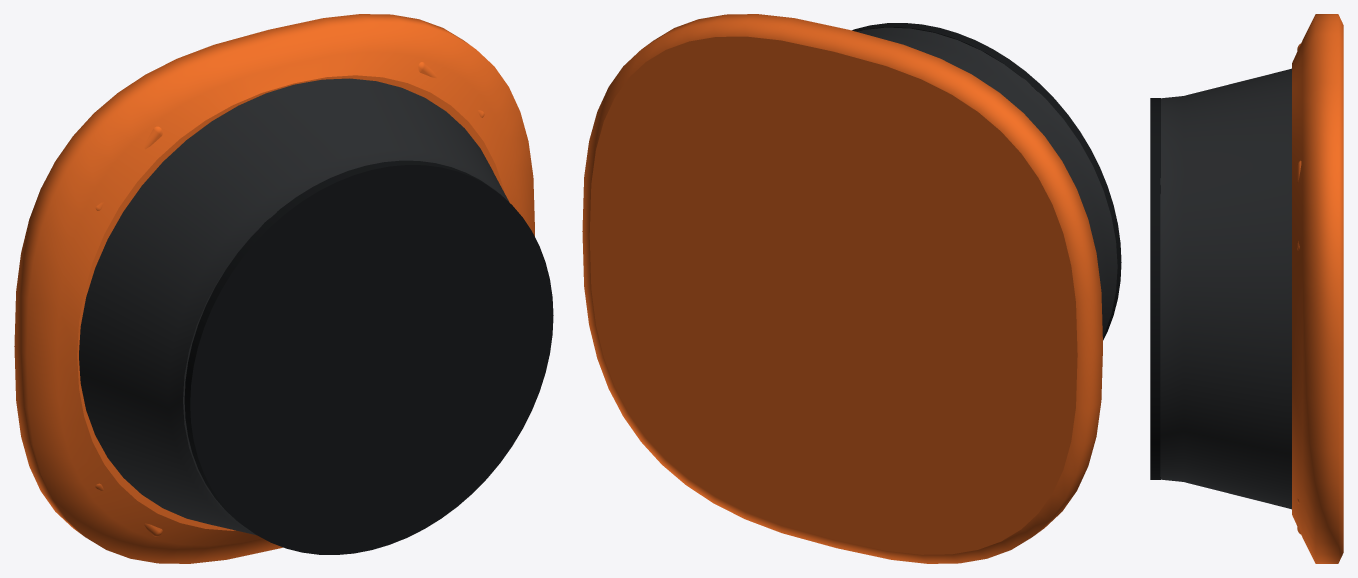
3 renders of one model, left to right at view 1: azimuth 30°, elevation 25°; view 2: azimuth 150°, elevation 25°; view 3: azimuth 270°, elevation 25°, orthographic. The views are drawn at different scales.
Visible parts, largest first — view 1: a1_seal, flared_mounting_rim, a1_tapered_skirt; view 2: flared_mounting_rim, a1_tapered_skirt, a1_seal; view 3: a1_tapered_skirt, flared_mounting_rim, a1_seal.
Boxes of the visible parts, x1,y1,x2,y2 form: a1_seal: (184, 160, 553, 554); flared_mounting_rim: (14, 14, 534, 563); a1_tapered_skirt: (79, 78, 509, 535); flared_mounting_rim: (582, 14, 1102, 563); a1_tapered_skirt: (857, 27, 1117, 336); a1_seal: (852, 23, 1121, 340); a1_tapered_skirt: (1160, 68, 1291, 509); flared_mounting_rim: (1292, 14, 1343, 563); a1_seal: (1150, 98, 1160, 479).
Bounding box in the file's own units: 0.898 × 0.86 × 0.325.
